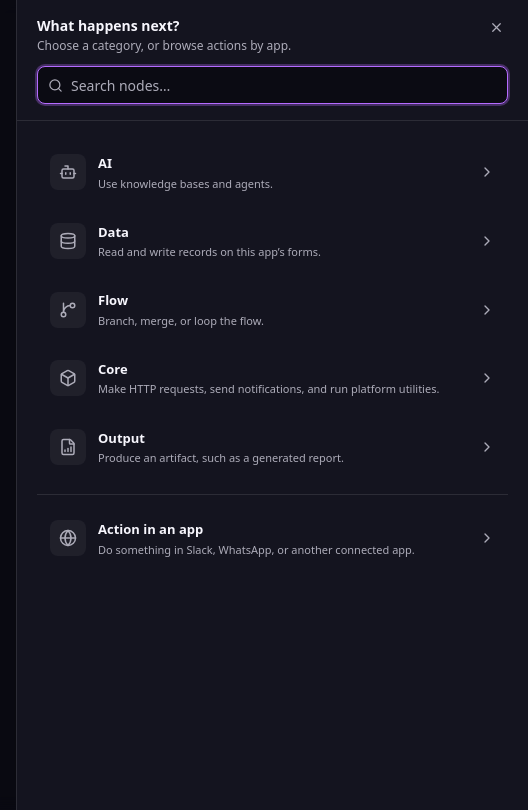
Test: the node picker, against the live catalog › keeps built-in provenance implicit in the section hierarchy
Click the button "Flow Branch, merge, or loop the flow.": point(68, 310) [37, 278, 508, 341]
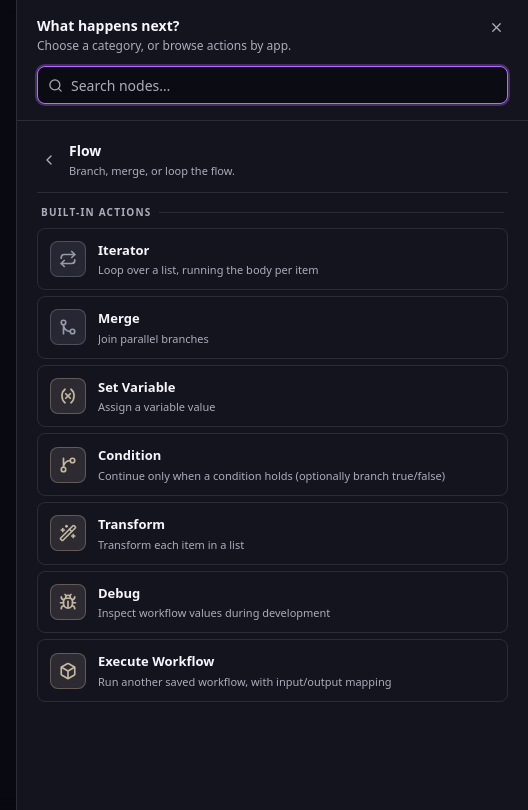
Now the button "Core" is gone
